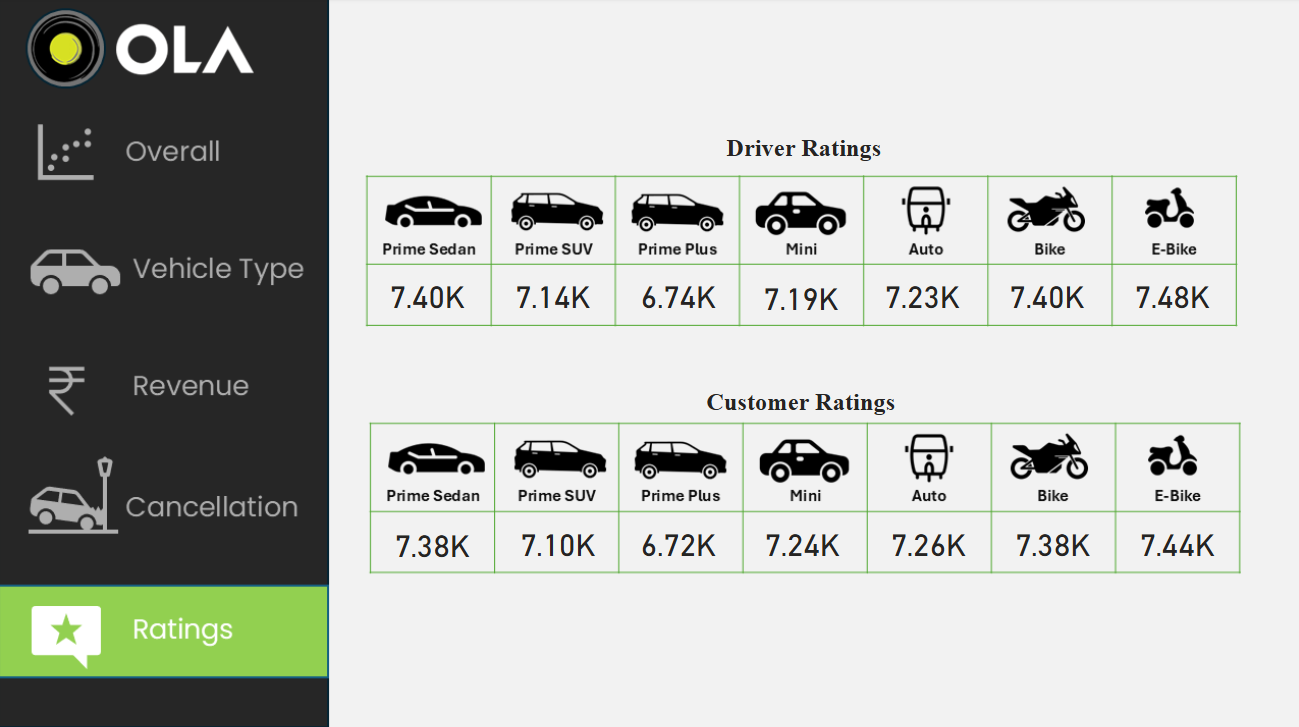

This screenshot's page, from the dashboard's own definition file:
{"tool":"powerbi","page":{"name":"Ratings","canvas":[1280,720],"ordinal":4},"visuals":[{"type":"actionButton","box":[0,100.6,323.9,94.5],"z":0},{"type":"actionButton","box":[0,217.2,323.9,94.5],"z":1000},{"type":"actionButton","box":[0,331.3,323.9,94.5],"z":2000},{"type":"actionButton","box":[0,446.6,323.9,94.5],"z":3000},{"type":"card","fields":{"Values":["Sum(July.Driver_Ratings)"]},"box":[360.9,264.8,119.4,56.3],"z":4000},{"type":"card","fields":{"Values":["Sum(July.Driver_Ratings)"]},"box":[480.3,264.8,127.6,56.3],"z":5000},{"type":"card","fields":{"Values":["Sum(July.Driver_Ratings)"]},"box":[607.9,264.8,119.4,56.3],"z":6000},{"type":"card","fields":{"Values":["Sum(July.Driver_Ratings)"]},"box":[727.3,266.2,119.4,56.3],"z":7000},{"type":"card","fields":{"Values":["Sum(July.Driver_Ratings)"]},"box":[846.7,264.8,119.4,56.3],"z":8000},{"type":"card","fields":{"Values":["Sum(July.Driver_Ratings)"]},"box":[966,264.8,126.2,56.3],"z":9000},{"type":"card","fields":{"Values":["Sum(July.Driver_Ratings)"]},"box":[1092.3,264.8,119.4,56.3],"z":10000},{"type":"card","fields":{"Values":["Sum(July.Customer_Rating)"]},"box":[360.9,507.7,129,59],"z":11000},{"type":"card","fields":{"Values":["Sum(July.Customer_Rating)"]},"box":[489.9,507.7,118,56.3],"z":12000},{"type":"card","fields":{"Values":["Sum(July.Customer_Rating)"]},"box":[607.9,507.7,119.4,56.3],"z":13000},{"type":"card","fields":{"Values":["Sum(July.Customer_Rating)"]},"box":[728.6,507.7,119.4,56.3],"z":14000},{"type":"card","fields":{"Values":["Sum(July.Customer_Rating)"]},"box":[848,507.7,129,56.3],"z":15000},{"type":"card","fields":{"Values":["Sum(July.Customer_Rating)"]},"box":[977,507.7,115.3,56.3],"z":16000},{"type":"card","fields":{"Values":["Sum(July.Customer_Rating)"]},"box":[1092.3,507.7,129,56.3],"z":17000},{"type":"textbox","box":[607.2,379.2,359.2,38.5],"z":18000},{"type":"textbox","box":[628.6,129.7,323.6,37.1],"z":19000}]}

Visuals, with their boxes on the page's 1280x720 design canvas (x1, y1, x2, y2). These are canvas units, not pixel positions in the 1299x727 screenshot, which may show the page scaled, cropped or inside an application window:
actionButton: rect(0, 101, 324, 195)
actionButton: rect(0, 217, 324, 312)
actionButton: rect(0, 331, 324, 426)
actionButton: rect(0, 447, 324, 541)
card - Sum(July.Driver_Ratings): rect(361, 265, 480, 321)
card - Sum(July.Driver_Ratings): rect(480, 265, 608, 321)
card - Sum(July.Driver_Ratings): rect(608, 265, 727, 321)
card - Sum(July.Driver_Ratings): rect(727, 266, 847, 322)
card - Sum(July.Driver_Ratings): rect(847, 265, 966, 321)
card - Sum(July.Driver_Ratings): rect(966, 265, 1092, 321)
card - Sum(July.Driver_Ratings): rect(1092, 265, 1212, 321)
card - Sum(July.Customer_Rating): rect(361, 508, 490, 567)
card - Sum(July.Customer_Rating): rect(490, 508, 608, 564)
card - Sum(July.Customer_Rating): rect(608, 508, 727, 564)
card - Sum(July.Customer_Rating): rect(729, 508, 848, 564)
card - Sum(July.Customer_Rating): rect(848, 508, 977, 564)
card - Sum(July.Customer_Rating): rect(977, 508, 1092, 564)
card - Sum(July.Customer_Rating): rect(1092, 508, 1221, 564)
textbox: rect(607, 379, 966, 418)
textbox: rect(629, 130, 952, 167)
